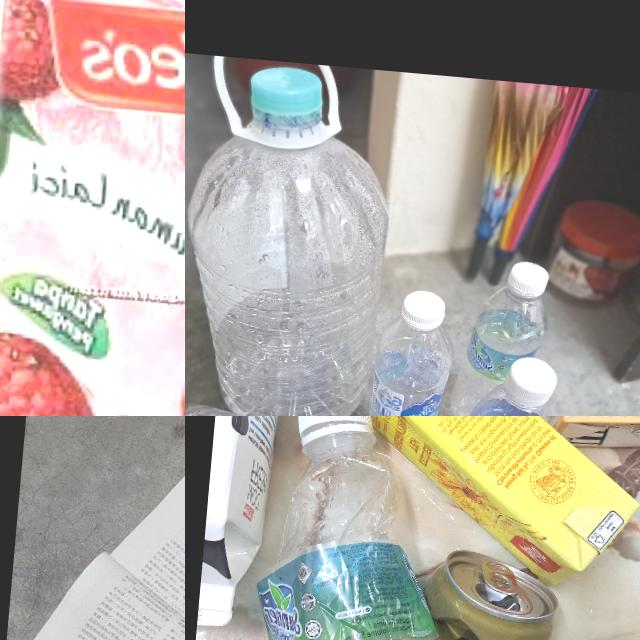aba de lata: (476, 558, 520, 593)
caixinha: (0, 0, 185, 416), (320, 416, 640, 590), (197, 416, 308, 634)
garrafa plástica: (185, 112, 396, 416), (210, 423, 450, 640), (449, 282, 548, 416), (365, 316, 456, 416), (445, 382, 555, 416)
lata: (392, 543, 584, 640)
papel: (0, 419, 185, 640)
tampa plástica: (248, 61, 324, 120), (502, 354, 558, 406), (293, 416, 374, 445), (399, 288, 446, 330), (506, 259, 550, 296)
